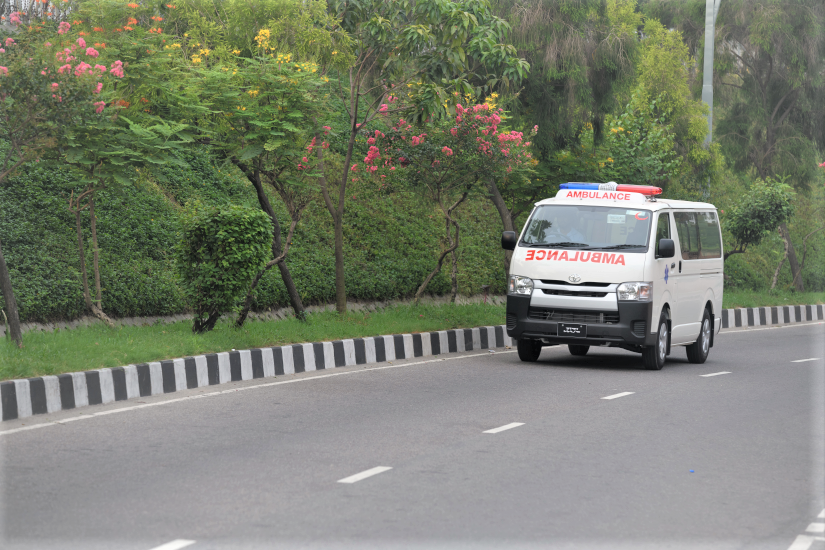ambulance: (500, 180, 724, 369)
